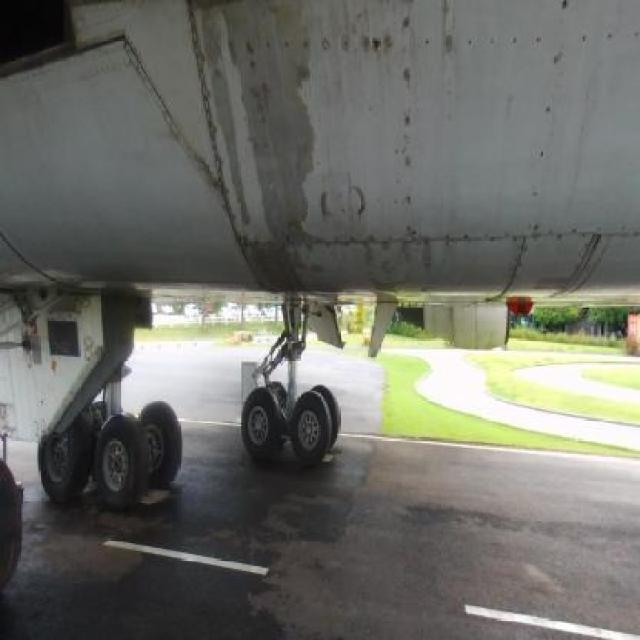Missing-Rivet: (551, 2, 640, 100), (523, 83, 557, 225), (442, 227, 608, 253), (399, 8, 418, 235), (238, 30, 392, 56), (420, 27, 548, 56)
Scartch: (192, 4, 316, 299), (317, 235, 437, 291), (312, 175, 376, 232), (322, 24, 395, 59), (445, 28, 457, 52)
